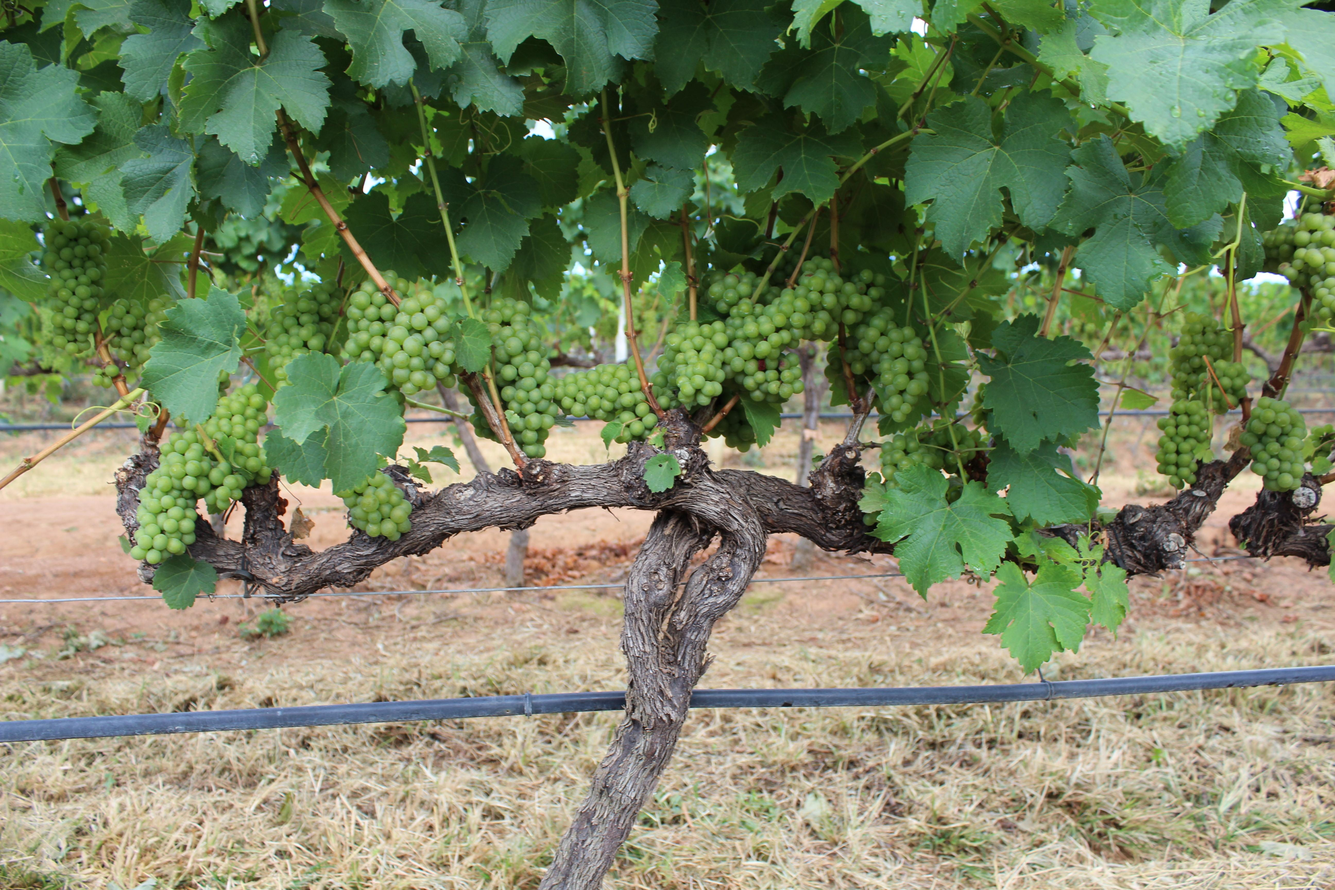leaf: (1091, 0, 1285, 146), (905, 92, 1071, 257), (180, 14, 330, 163), (1051, 134, 1171, 310), (273, 353, 406, 491), (874, 464, 1011, 596), (1163, 90, 1291, 228), (0, 40, 96, 221), (977, 314, 1099, 454), (761, 5, 893, 133), (484, 0, 658, 96), (142, 285, 246, 422), (324, 0, 467, 88), (654, 0, 783, 95), (55, 92, 143, 230), (983, 562, 1090, 673), (731, 115, 861, 203), (987, 437, 1101, 525), (345, 189, 448, 279), (120, 124, 194, 241), (120, 0, 202, 101), (196, 133, 288, 218), (103, 235, 184, 304), (0, 219, 46, 301), (264, 429, 327, 487), (152, 553, 217, 609), (630, 164, 694, 219), (740, 392, 781, 447), (455, 318, 492, 372), (643, 452, 682, 493), (414, 444, 460, 473), (0, 323, 16, 339), (343, 244, 356, 263), (0, 363, 11, 373), (3, 317, 16, 320), (0, 343, 4, 349), (0, 312, 3, 316), (1324, 50, 1329, 52), (302, 435, 304, 439), (103, 93, 106, 94), (201, 418, 203, 419)
